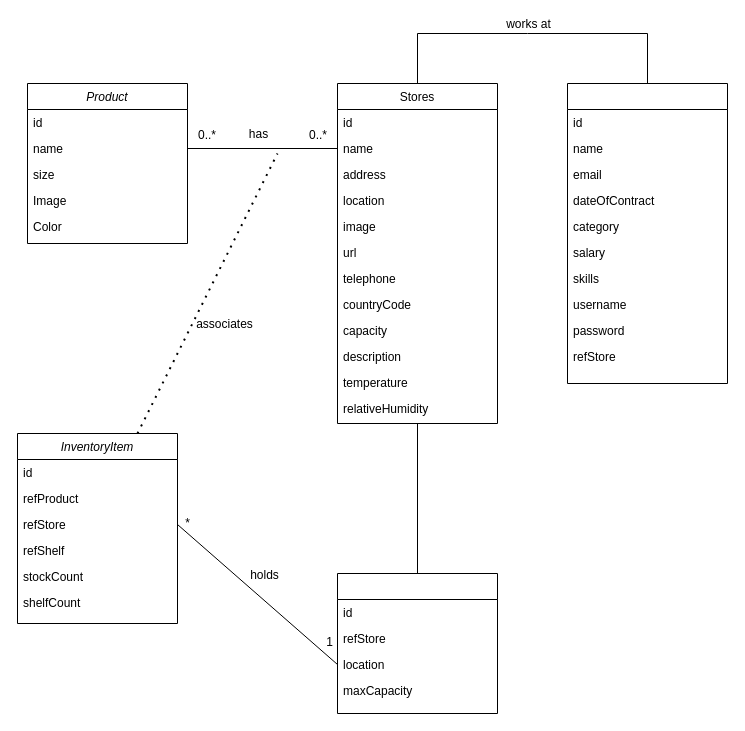
Some shapes in this 745 by 731 pixel diagram are drawn without their labels. Each missing label, with the box of its shape:
Employee: (566, 82, 728, 384)
Shelf: (336, 572, 498, 714)
